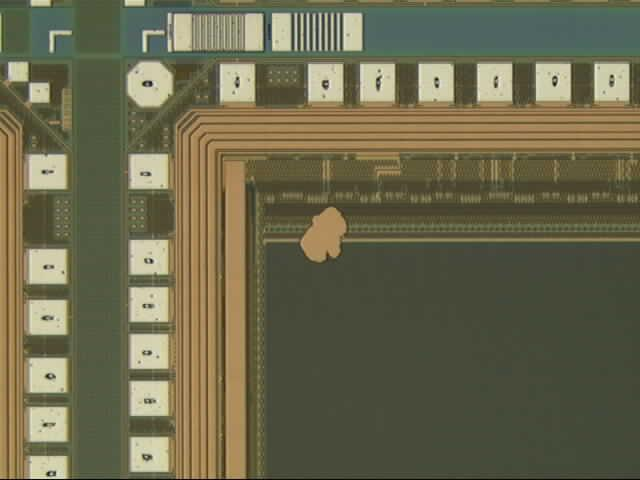BLOCK ETCH: (297, 206, 357, 266)
